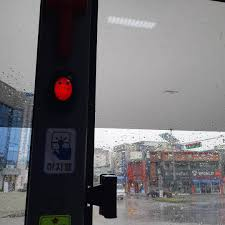bell: (51, 73, 74, 106)
